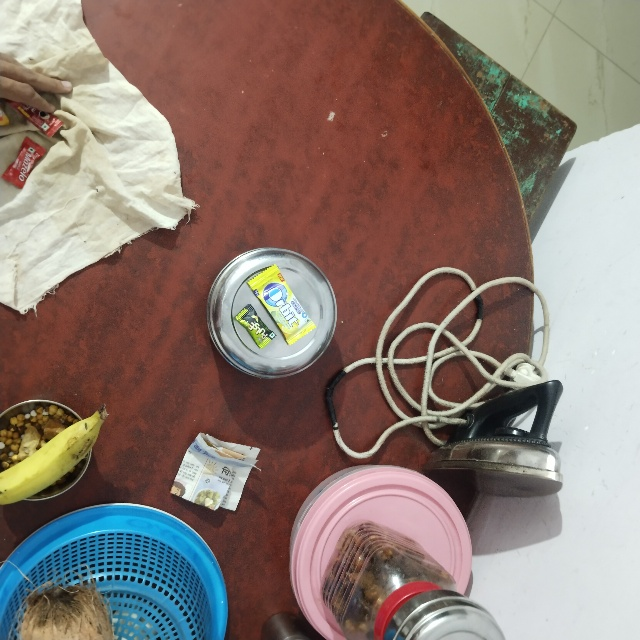Orbit: (244, 285, 287, 360)
Pulse: (231, 318, 258, 361)
